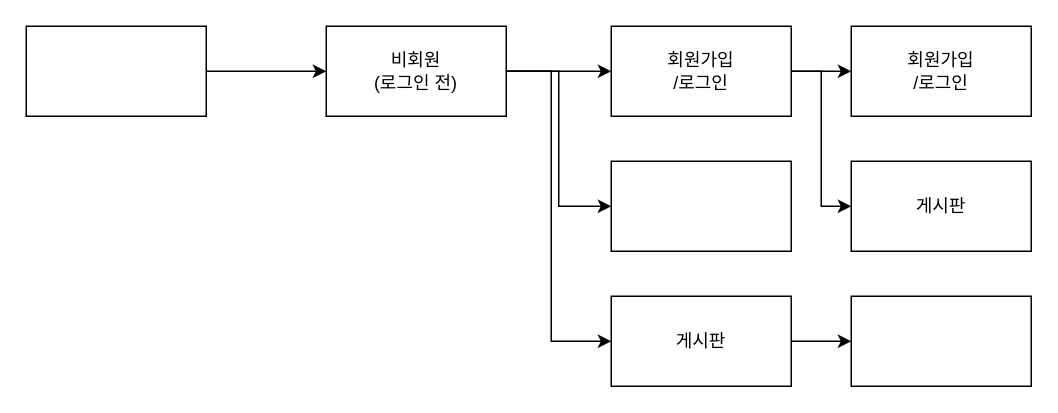
Some shapes in this 1058 by 413 pixel diagram are drawn without their labels. The shapes that lost their labels are listed below. From the top down, each one's box as (x1, y1, x2, y2) in pixels, then its label:
(25, 25, 206, 116): 일반 사용자
(610, 160, 791, 251): 메인 페이지 글 보기
(850, 295, 1031, 386): 게시판 글 보기
